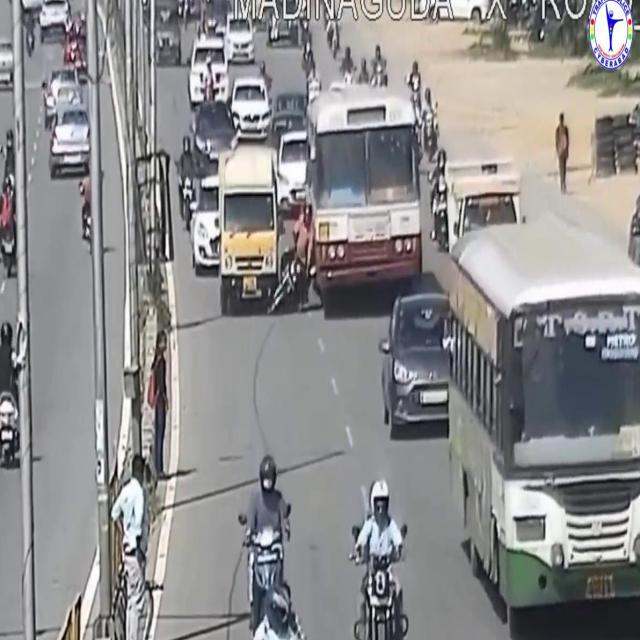accident: (204, 65, 431, 331)
non_accident: (380, 154, 640, 640), (143, 0, 277, 152), (25, 0, 90, 183)
